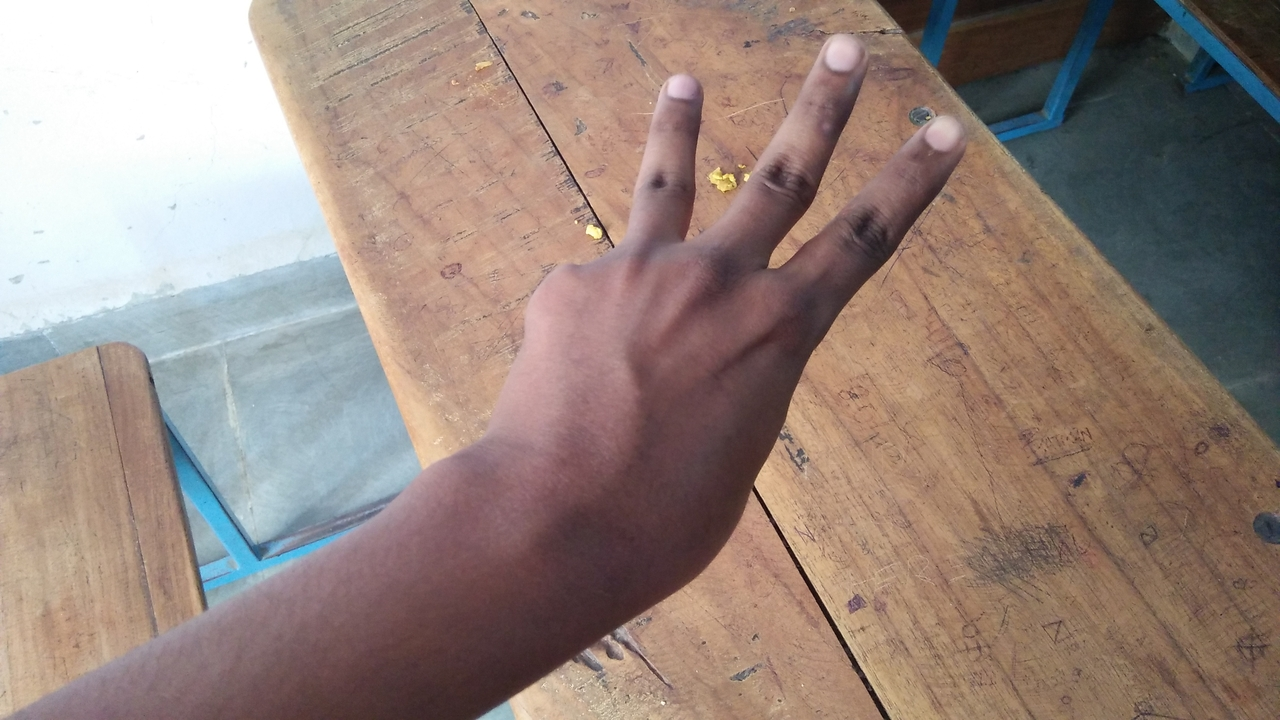fingertip: (908, 102, 978, 166), (816, 28, 876, 82), (654, 64, 706, 110)
